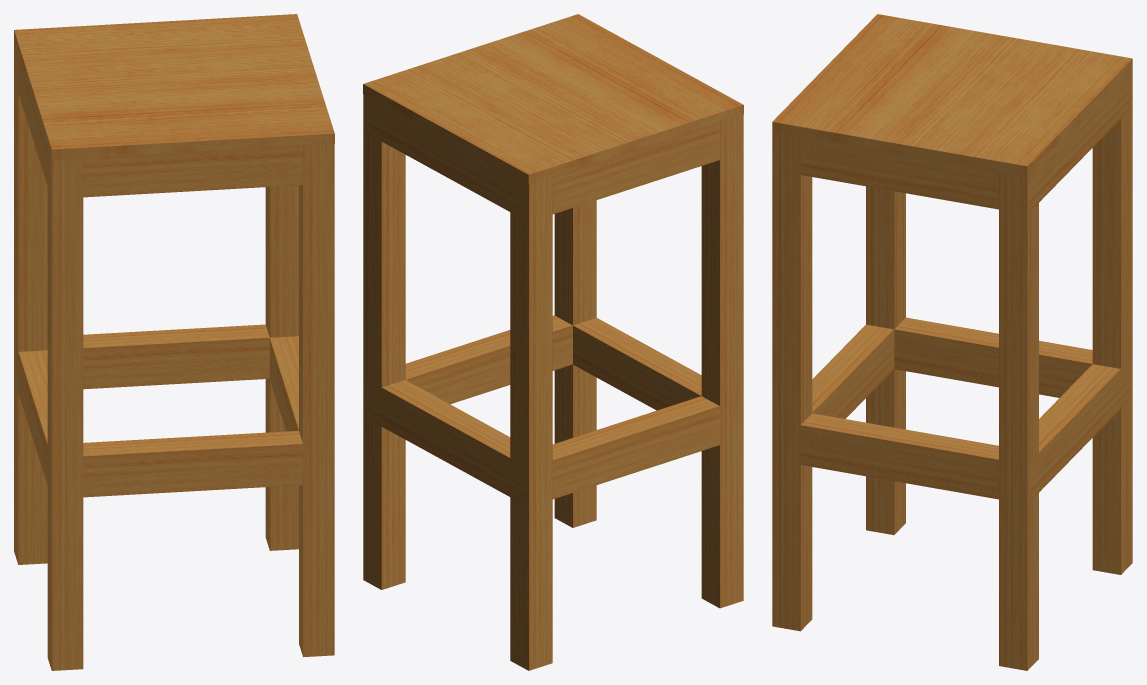
Rendered from Sgabello3.dae.
The picture shows the model from 3 angles, left to right: view 1: azimuth 30°, elevation 25°; view 2: azimuth 150°, elevation 25°; view 3: azimuth 270°, elevation 25°; orthographic projection. The views are drawn at different scales.
Visible parts, largest first — view 1: Cube_012_004; view 2: Cube_012_004; view 3: Cube_012_004.
Boxes of the visible parts, x1,y1,x2,y2 form: Cube_012_004: (14,14,334,670); Cube_012_004: (363,14,743,670); Cube_012_004: (772,14,1132,670).
Size of the model in its own units: 0.457 by 0.457 by 0.7057.
Materials: 1 (1 with a texture image).
